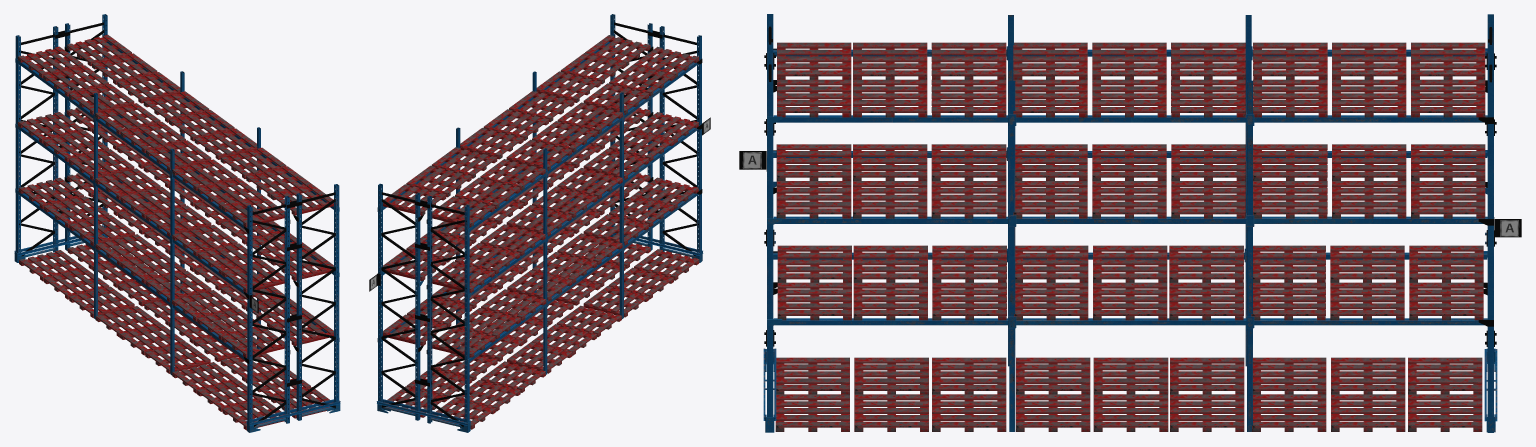
File: shelf.glb
3 views of the same model, side by side, from view 1: azimuth 30°, elevation 25°; view 2: azimuth 150°, elevation 25°; view 3: azimuth 270°, elevation 25° (orthographic). The views are drawn at different scales.
Parts seen in each view (by area): view 1: shelf; view 2: shelf; view 3: shelf.
Part boxes in pixels (x1,y1,x2,y2): shelf: [14, 14, 340, 432]; shelf: [369, 14, 710, 432]; shelf: [739, 14, 1521, 432].
Size of the model in its own units: 2.19 by 5.2 by 10.51.
Materials: 3 (3 with a texture image).
